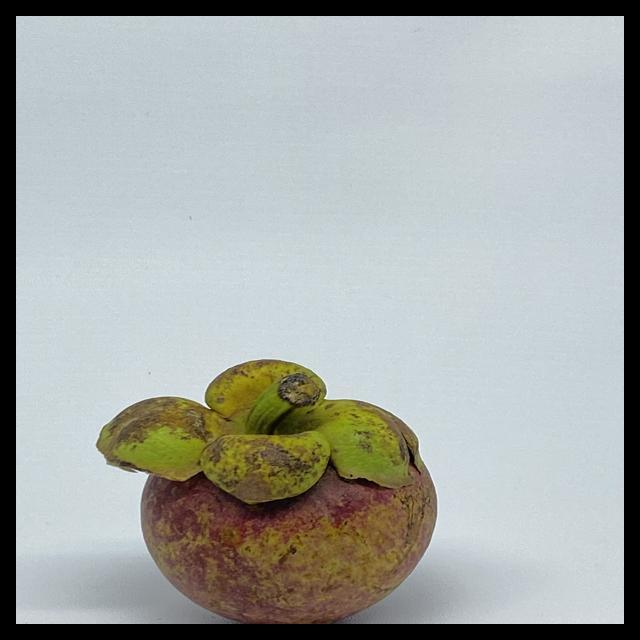mangosteen: (88, 336, 451, 624)
